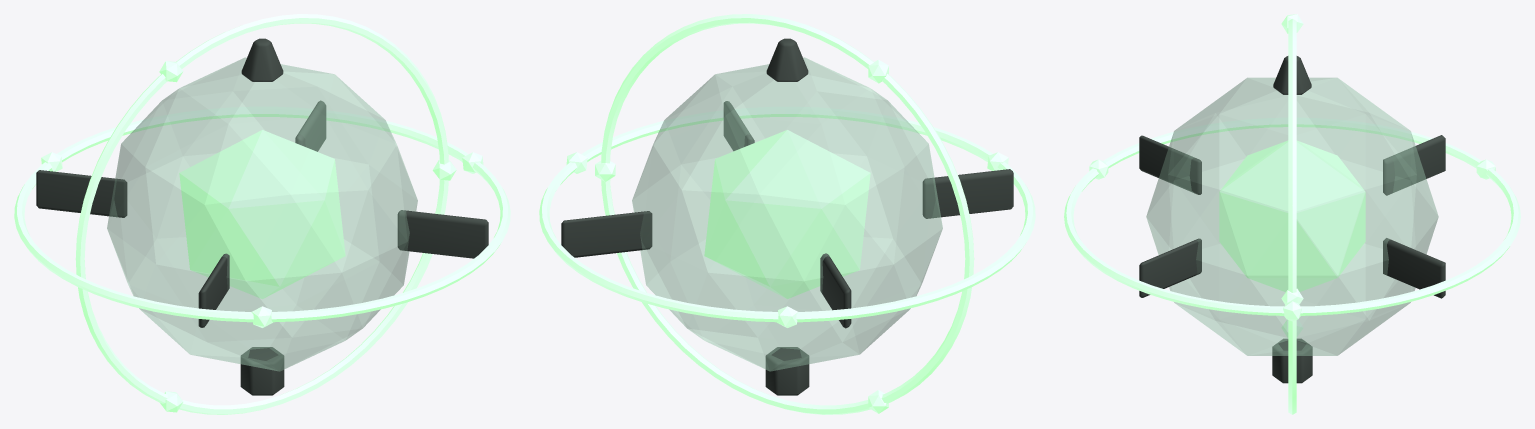
The model's file is copilot.glb.
3 views of the same model, side by side, from view 1: azimuth 30°, elevation 25°; view 2: azimuth 150°, elevation 25°; view 3: azimuth 270°, elevation 25° (orthographic). The views are drawn at different scales.
Parts seen in each view (by area): view 1: shell, core, fins, ring_a, ring_b; view 2: shell, core, fins, ring_a, ring_b; view 3: shell, core, fins, ring_a, ring_b.
Boxes of the visible parts, <box> form: shell: <box>107,57,417,371</box>; core: <box>179,130,345,298</box>; fins: <box>36,38,488,395</box>; ring_a: <box>14,106,510,327</box>; ring_b: <box>75,14,456,414</box>; shell: <box>632,57,942,371</box>; core: <box>704,130,870,298</box>; fins: <box>561,38,1013,395</box>; ring_a: <box>539,106,1035,327</box>; ring_b: <box>595,14,974,414</box>; shell: <box>1146,77,1438,355</box>; core: <box>1219,140,1365,292</box>; fins: <box>1139,56,1445,383</box>; ring_a: <box>1064,117,1520,321</box>; ring_b: <box>1281,14,1303,414</box>.
Bounding box in the file's own units: 1.07 × 0.922 × 1.06.
